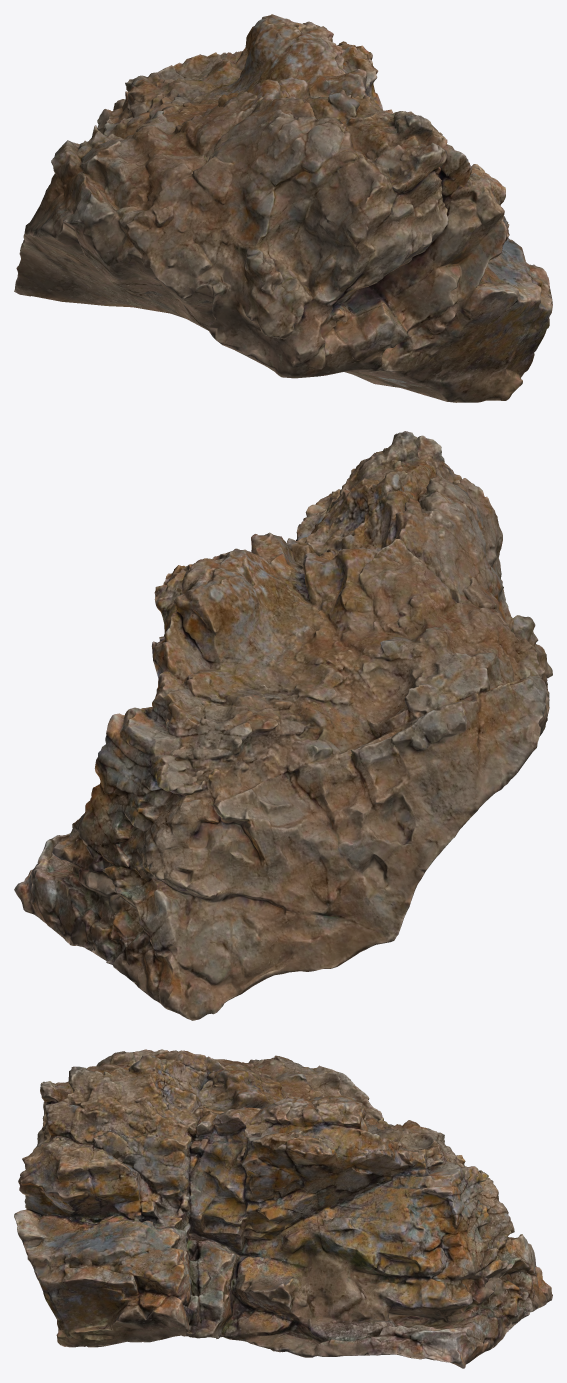
Rendered from boulder_01.glb.
3 views of the same model, one above another, from view 1: azimuth 30°, elevation 25°; view 2: azimuth 150°, elevation 25°; view 3: azimuth 270°, elevation 25° (orthographic). The views are drawn at different scales.
Parts seen in each view (by area): view 1: boulder_01; view 2: boulder_01; view 3: boulder_01.
Part boxes in pixels (box(x1,y1,x2,y2)): boulder_01: box(14, 14, 552, 402); boulder_01: box(14, 431, 552, 1020); boulder_01: box(14, 1049, 552, 1368).
Size of the model in its own units: 1.27 by 1 by 1.83.
Materials: 1 (1 with a texture image).
